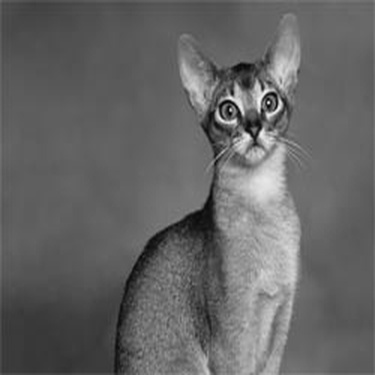cat: (112, 9, 303, 371)
